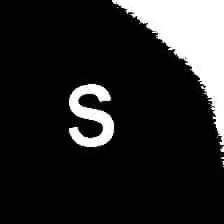LTR_S: (63, 78, 119, 149)
